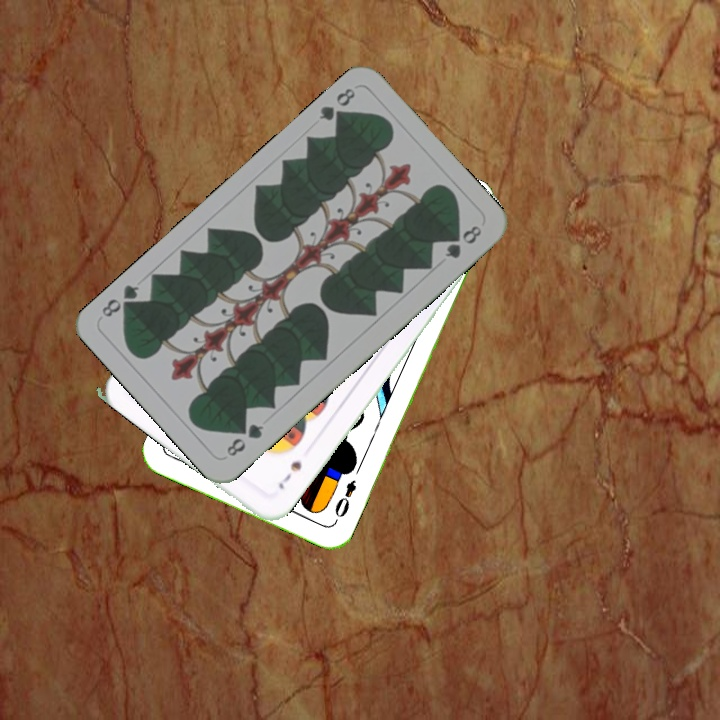EO: (330, 475, 360, 526)
G8: (315, 84, 358, 127), (222, 419, 266, 460)
S7: (274, 457, 305, 492)
